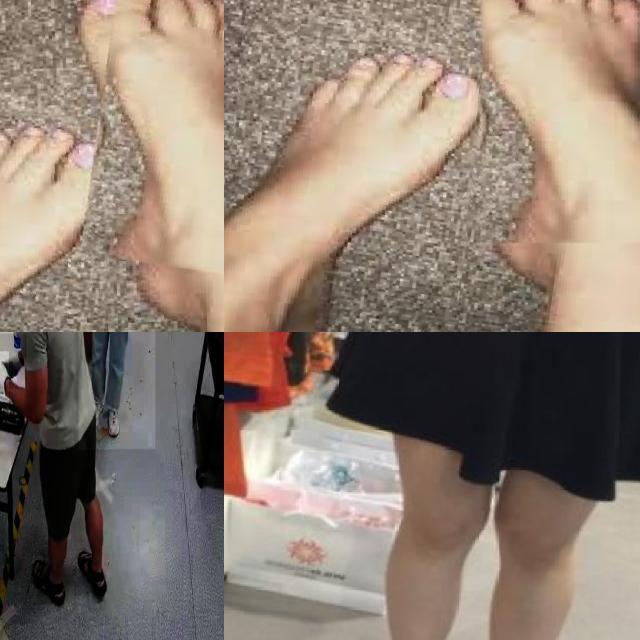Barefoots: (224, 37, 493, 332), (460, 0, 640, 278), (82, 0, 224, 326), (0, 119, 109, 312)
hand_glove: (0, 333, 26, 388), (0, 351, 9, 409)
person: (0, 332, 108, 624), (78, 332, 155, 450)
shoes: (106, 398, 122, 439)
